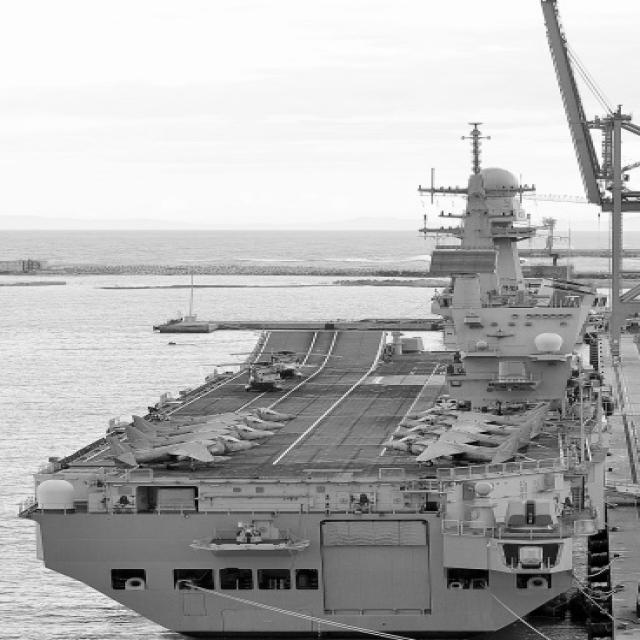Portanaves: (20, 128, 606, 640)
